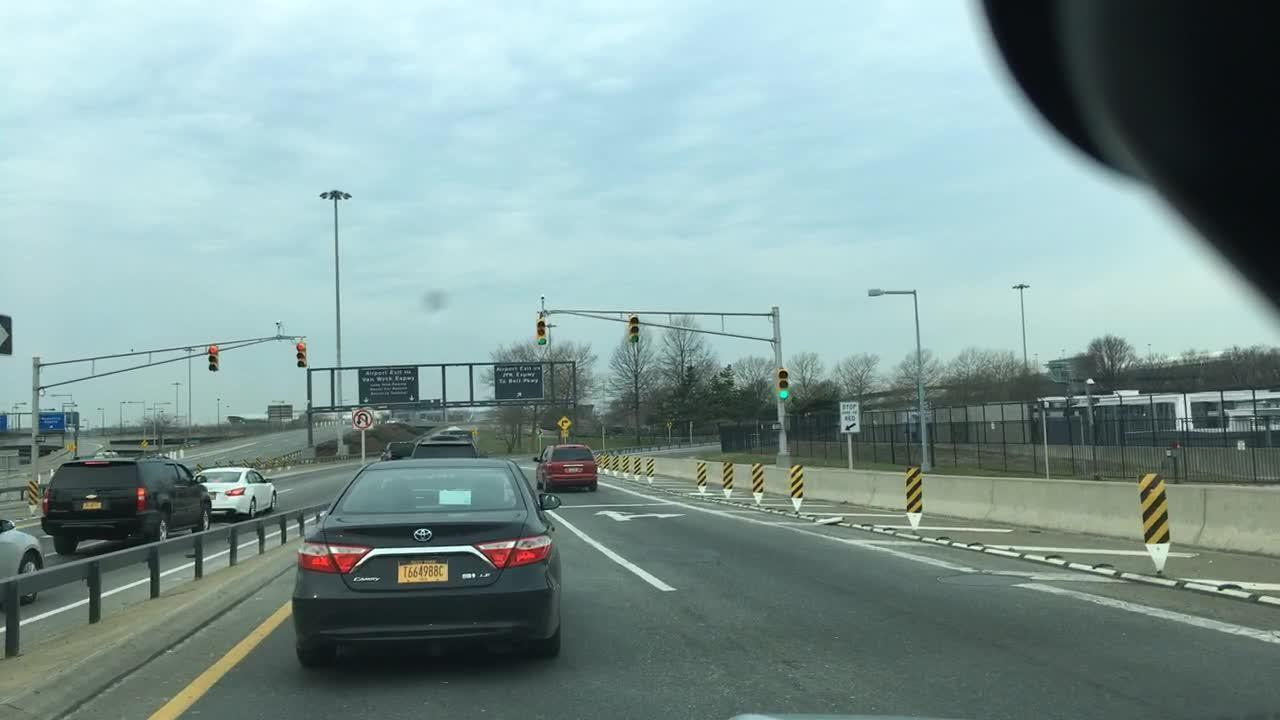Toyota: (411, 523, 434, 544)
chevrolet: (84, 491, 101, 502)
